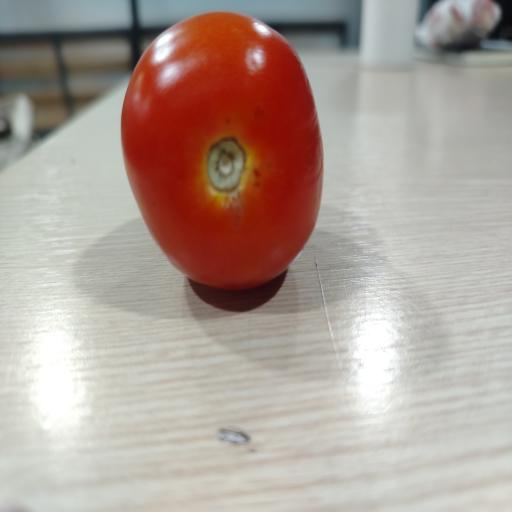ripe: (121, 12, 323, 289)
